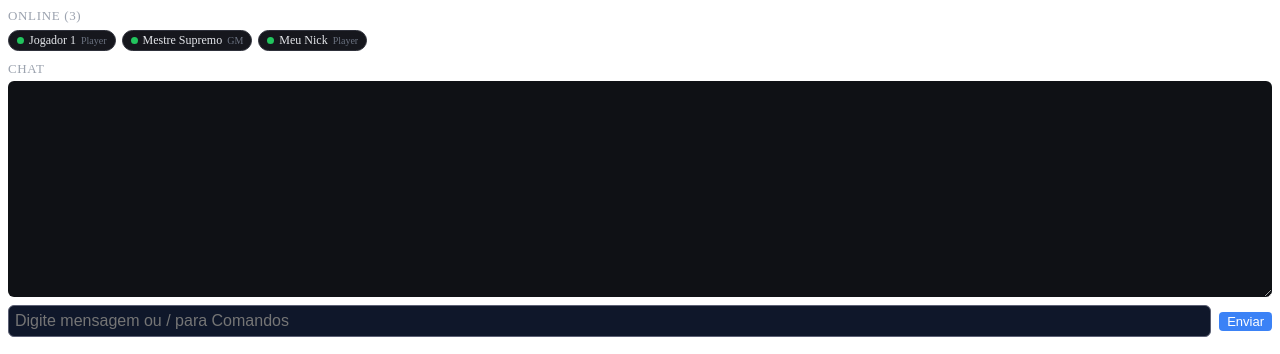
Test case: ChatPanel autocomplete › exibe comandos de GM quando currentRole é gm
Type "/" into the field with placeholder "Digite mensagem ou / para Comandos" at {"x": 610, "y": 321}, box x1=8 y1=305 x2=1211 y2=337
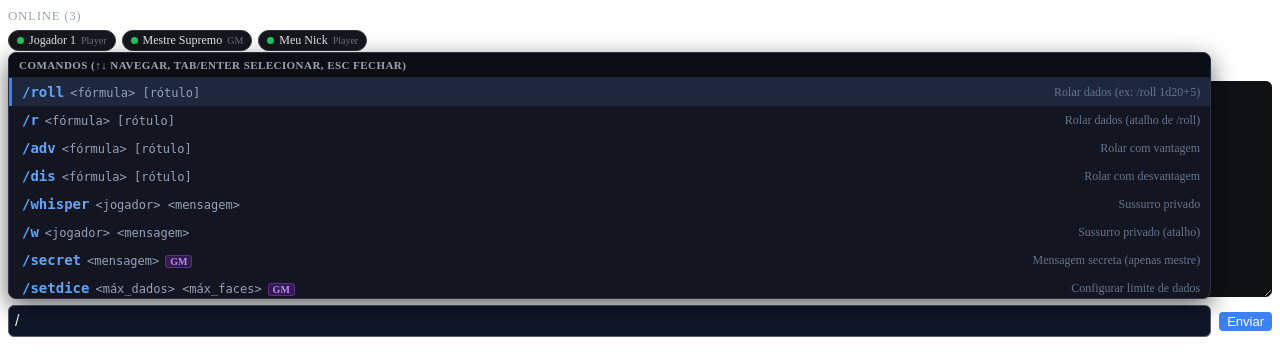
Check: the text "/secret" is shown, box x1=22 y1=252 x2=81 y2=268
Check: the text "/setdice" is shown, box x1=22 y1=280 x2=89 y2=296
